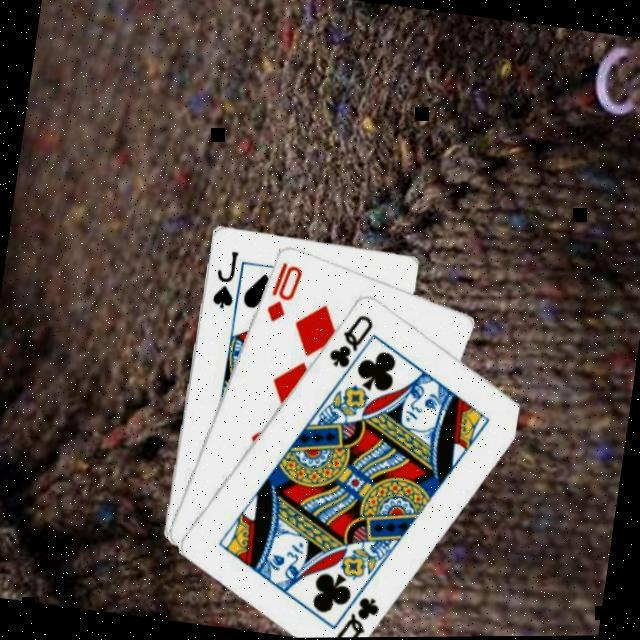10D: (261, 258, 306, 328)
JS: (207, 247, 242, 314)
QC: (323, 308, 376, 375), (329, 590, 382, 638)
